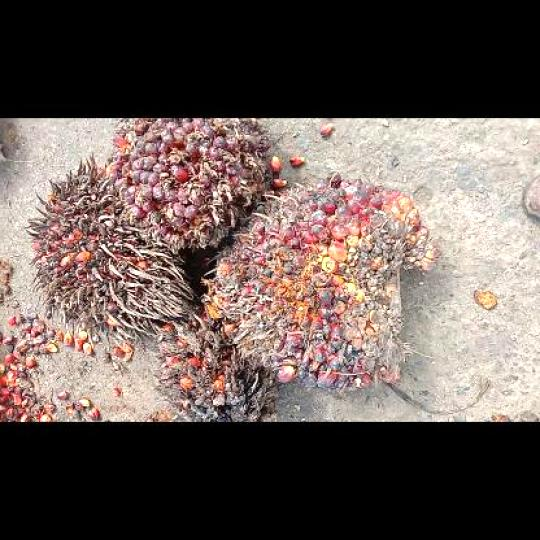masak: (201, 172, 432, 391), (106, 118, 270, 251)
terlalu masak: (25, 157, 193, 348), (158, 309, 276, 421)
